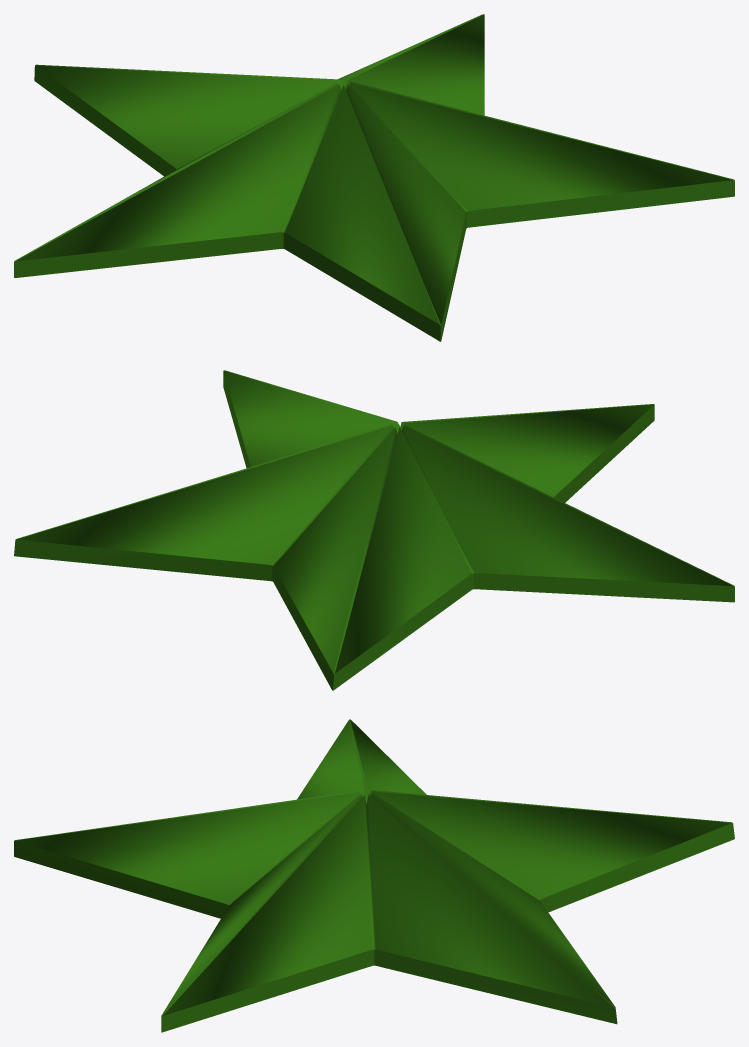
File: starnew.fbx
3 renders of one model, top to bottom at view 1: azimuth 30°, elevation 25°; view 2: azimuth 150°, elevation 25°; view 3: azimuth 270°, elevation 25°, orthographic. The views are drawn at different scales.
Parts seen in each view (by area): view 1: Box014; view 2: Box014; view 3: Box014.
Boxes of the visible parts, x1,y1,x2,y2 form: Box014: (14,14,734,341); Box014: (14,370,734,690); Box014: (14,719,734,1032).
Bounding box in the file's own units: 8.79 × 1.44 × 9.01.
